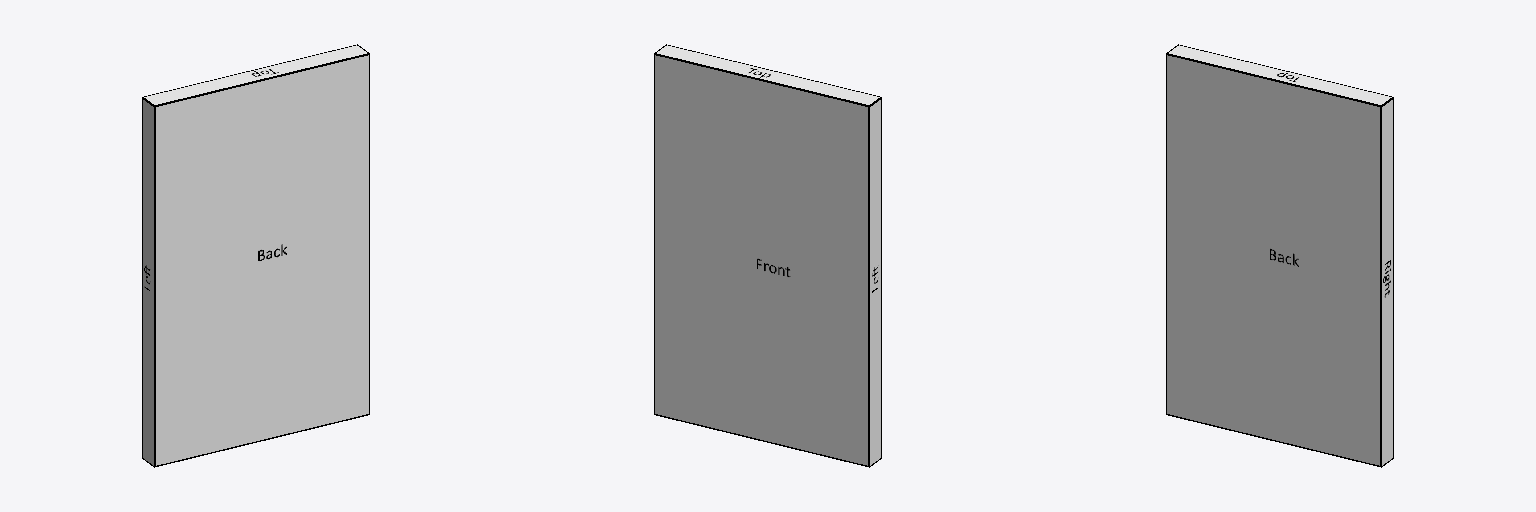
3 views of the same model, side by side, from view 1: azimuth 30°, elevation 25°; view 2: azimuth 150°, elevation 25°; view 3: azimuth 330°, elevation 25° (orthographic).
Visible parts, largest first — view 1: cube; view 2: cube; view 3: cube.
Part boxes in pixels (left/top/right/bottom): cube: left=142, top=44, right=369, bottom=467; cube: left=654, top=44, right=881, bottom=467; cube: left=1166, top=44, right=1393, bottom=467.
Size of the model in its own units: 1.25 by 2 by 0.125.
Materials: 1 (1 with a texture image).